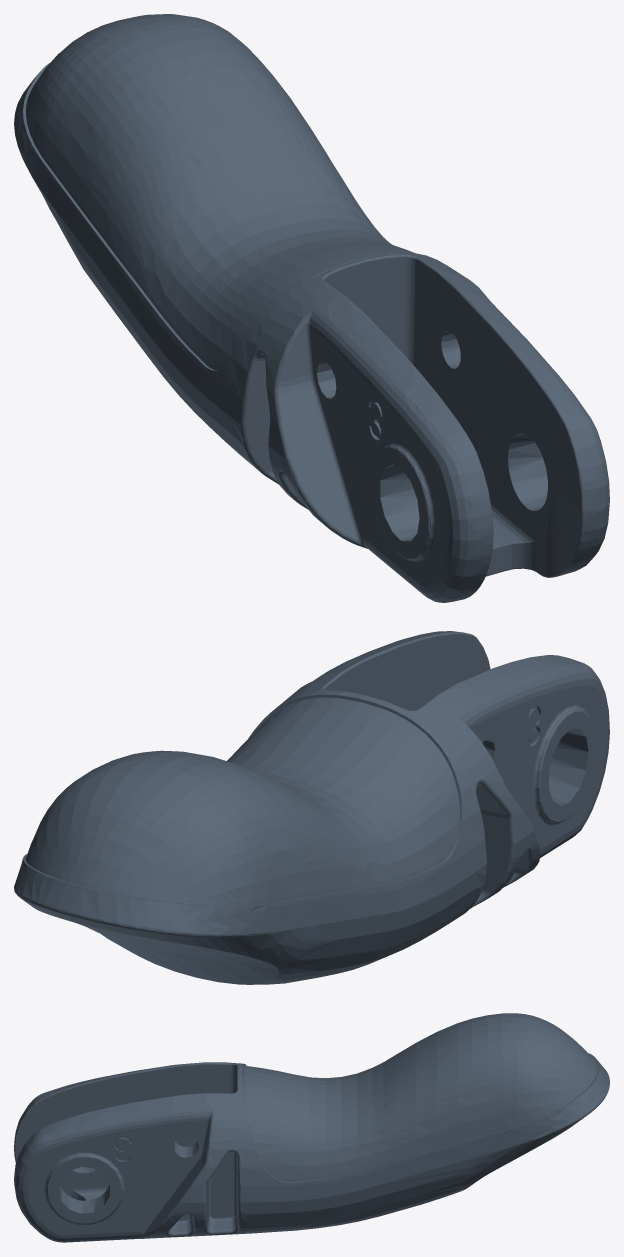
File: L_ring_dist.dae
3 views of the same model, one above another, from view 1: azimuth 30°, elevation 25°; view 2: azimuth 150°, elevation 25°; view 3: azimuth 270°, elevation 25° (orthographic). The views are drawn at different scales.
Visible parts, largest first — view 1: L_ring_dist; view 2: L_ring_dist; view 3: L_ring_dist.
Part boxes in pixels (<box>): L_ring_dist: <box>14,14,609,602</box>; L_ring_dist: <box>14,631,609,984</box>; L_ring_dist: <box>14,1013,609,1242</box>.
Bounding box in the file's own units: 0.0147 × 0.047 × 0.0177.
